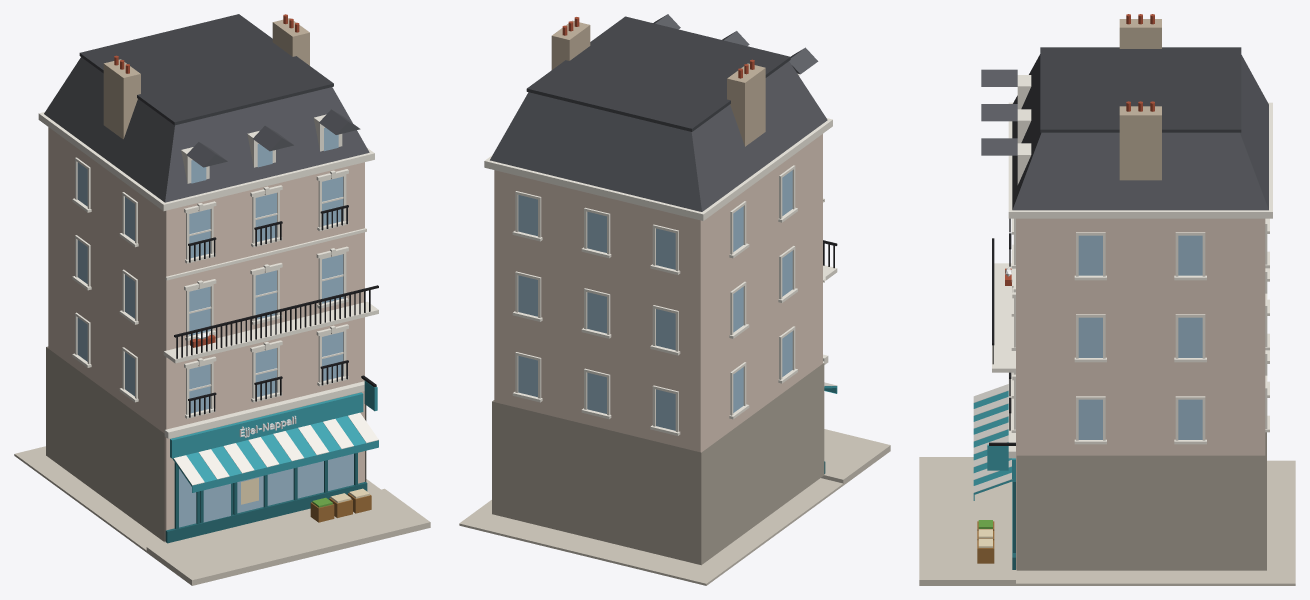
File: Dukkan_ejjel_nappali_Hafif.fbx
3 views of the same model, side by side, from view 1: azimuth 30°, elevation 25°; view 2: azimuth 150°, elevation 25°; view 3: azimuth 270°, elevation 25° (orthographic). The views are drawn at different scales.
Parts seen in each view (by area): view 1: Dukkan_ejjel_nappali_Hafif; view 2: Dukkan_ejjel_nappali_Hafif; view 3: Dukkan_ejjel_nappali_Hafif.
Part boxes in pixels (bbox=[...]): Dukkan_ejjel_nappali_Hafif: bbox=[14, 14, 430, 585]; Dukkan_ejjel_nappali_Hafif: bbox=[459, 14, 890, 585]; Dukkan_ejjel_nappali_Hafif: bbox=[919, 14, 1295, 585].
Bounding box in the file's own units: 9.65 × 17.02 × 12.46.
